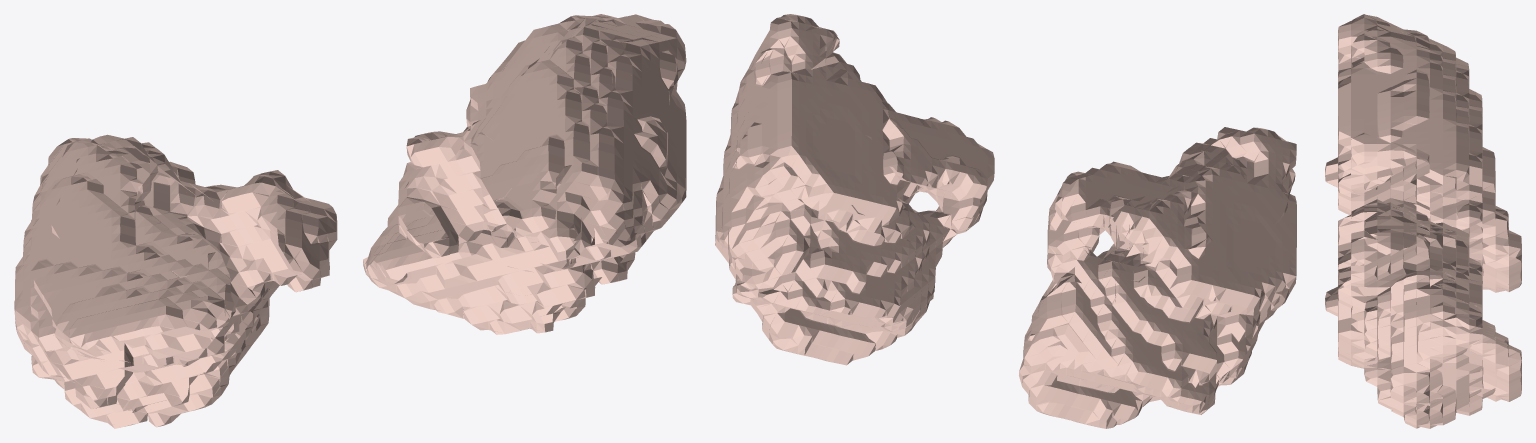
The model's file is VFB_00102140.glb.
The picture shows the model from 3 angles, left to right: view 1: azimuth 30°, elevation 25°; view 2: azimuth 150°, elevation 25°; view 3: azimuth 270°, elevation 25°; orthographic projection. The views are drawn at different scales.
Visible parts, largest first — view 1: VFB_00102140; view 2: VFB_00102140; view 3: VFB_00102140.
Part boxes in pixels (<box>): VFB_00102140: <box>14,14,686,428</box>; VFB_00102140: <box>715,14,1296,428</box>; VFB_00102140: <box>1325,14,1521,428</box>.
Bounding box in the file's own units: 0.1578 × 0.0769 × 0.0589.
